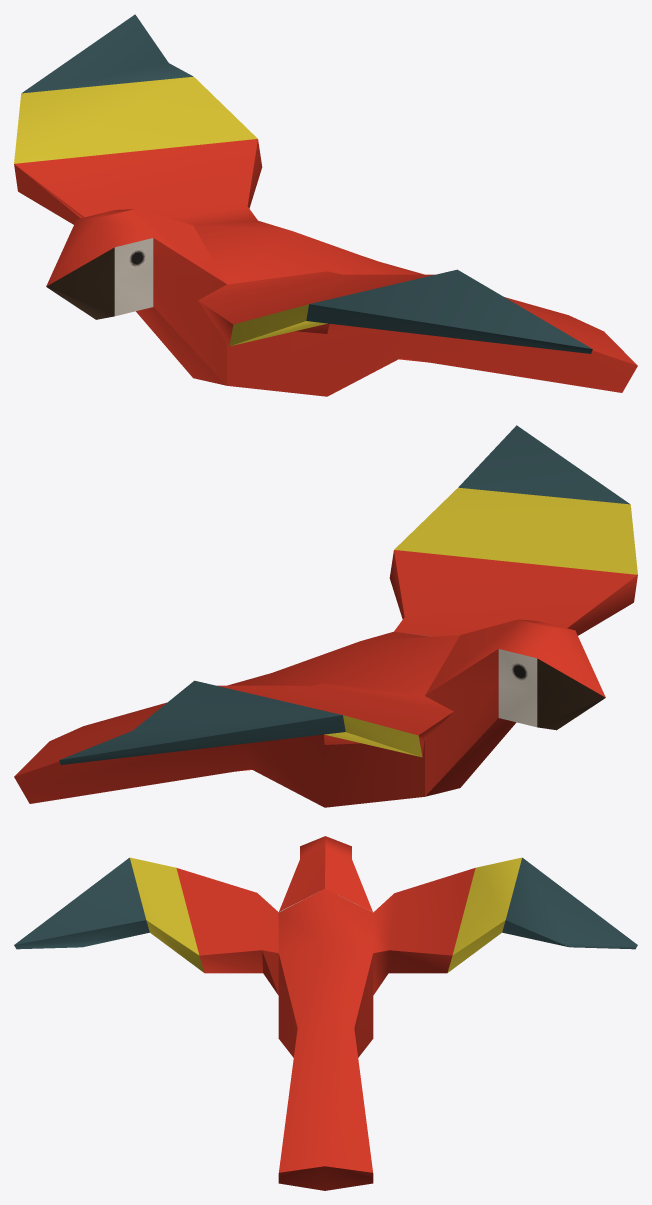
The picture shows the model from 3 angles, top to bottom: view 1: azimuth 30°, elevation 25°; view 2: azimuth 150°, elevation 25°; view 3: azimuth 270°, elevation 25°; orthographic projection. The views are drawn at different scales.
Parts seen in each view (by area): view 1: parrot; view 2: parrot; view 3: parrot, parrot6:parrot.
Part boxes in pixels (x1,y1,x2,y2): parrot: (14, 14, 637, 396); parrot: (14, 425, 637, 807); parrot: (14, 836, 637, 1190); parrot6:parrot: (25, 921, 636, 948).
Size of the model in its own units: 4.65 by 2.26 by 6.61.
Materials: 1 (1 with a texture image).
